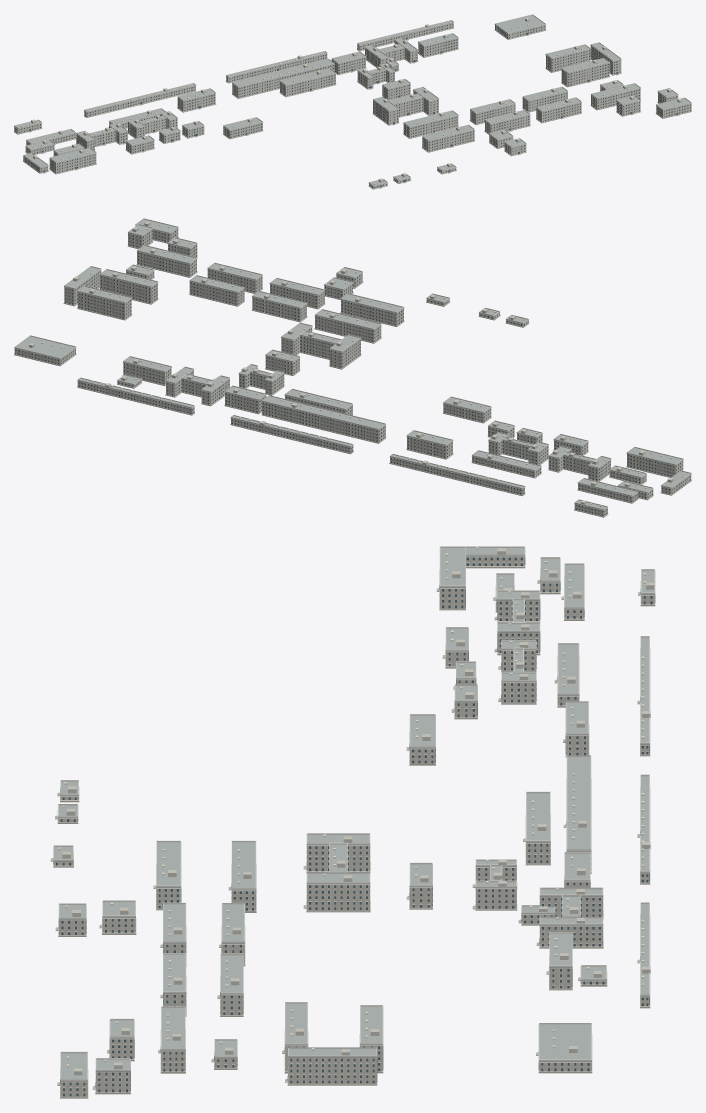
3 views of the same model, one above another, from view 1: azimuth 30°, elevation 25°; view 2: azimuth 150°, elevation 25°; view 3: azimuth 270°, elevation 25° (orthographic). The views are drawn at different scales.
Parts seen in each view (by area): view 1: Weathered flat roof details.004, Window frames and coping details.004, Dark blue grey glazing details.004, Pale limestone details.004, Walkway stone details.004, Warm ivory plaster details.004, 跃进楼.001, 八号楼（研究生院）.001, 科学楼.001, 第三教学楼.001, 十一号楼（经济学院）.001, 第二教学楼.001 (+14 smaller); view 2: Weathered flat roof details.004, Window frames and coping details.004, Dark blue grey glazing details.004, Pale limestone details.004, Walkway stone details.004, Warm ivory plaster details.004, 跃进楼.001, 八号楼（研究生院）.001, 十一号楼（经济学院）.001, 第三教学楼.001, 第二教学楼.001, 0号楼（学生服务站）.001 (+10 smaller); view 3: Weathered flat roof details.004, Window frames and coping details.004, Pale limestone details.004, Dark blue grey glazing details.004, Walkway stone details.004, Warm ivory plaster details.004, 十号楼（复旦学院）.001, 生命科学楼 · 东翼.001, 生命科学楼 · 西翼.001.
Part boxes in pixels (x1=…): Weathered flat roof details.004: x1=14, y1=15, x2=691, y2=186; Window frames and coping details.004: x1=14, y1=23, x2=691, y2=188; Dark blue grey glazing details.004: x1=14, y1=23, x2=690, y2=187; Pale limestone details.004: x1=14, y1=14, x2=691, y2=186; Walkway stone details.004: x1=14, y1=28, x2=691, y2=189; Warm ivory plaster details.004: x1=31, y1=17, x2=682, y2=182; 跃进楼.001: x1=232, y1=64, x2=334, y2=97; 八号楼（研究生院）.001: x1=561, y1=63, x2=609, y2=86; 科学楼.001: x1=280, y1=74, x2=335, y2=96; 第三教学楼.001: x1=403, y1=116, x2=458, y2=137; 十一号楼（经济学院）.001: x1=546, y1=50, x2=590, y2=71; 第二教学楼.001: x1=422, y1=130, x2=474, y2=151; Weathered flat roof details.004: x1=14, y1=219, x2=691, y2=510; Window frames and coping details.004: x1=14, y1=224, x2=691, y2=516; Dark blue grey glazing details.004: x1=15, y1=229, x2=690, y2=515; Pale limestone details.004: x1=14, y1=218, x2=691, y2=510; Walkway stone details.004: x1=14, y1=237, x2=691, y2=517; Warm ivory plaster details.004: x1=29, y1=221, x2=673, y2=504; 跃进楼.001: x1=262, y1=402, x2=385, y2=442; 八号楼（研究生院）.001: x1=100, y1=275, x2=157, y2=303; 十一号楼（经济学院）.001: x1=77, y1=292, x2=131, y2=318; 第三教学楼.001: x1=315, y1=316, x2=381, y2=342; 第二教学楼.001: x1=341, y1=300, x2=403, y2=325; 0号楼（学生服务站）.001: x1=137, y1=252, x2=196, y2=276; Weathered flat roof details.004: x1=53, y1=548, x2=655, y2=1081; Window frames and coping details.004: x1=53, y1=547, x2=654, y2=1096; Pale limestone details.004: x1=53, y1=546, x2=654, y2=1081; Dark blue grey glazing details.004: x1=53, y1=557, x2=655, y2=1096; Walkway stone details.004: x1=50, y1=566, x2=655, y2=1098; Warm ivory plaster details.004: x1=62, y1=548, x2=654, y2=1075; 十号楼（复旦学院）.001: x1=288, y1=1057, x2=376, y2=1084; 生命科学楼 · 东翼.001: x1=307, y1=885, x2=369, y2=910; 生命科学楼 · 西翼.001: x1=307, y1=846, x2=369, y2=870.
Bounding box in the file's own units: 679 × 19.15 × 322.
